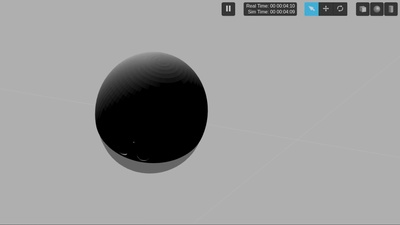mira_robot: (96, 51, 209, 173)
